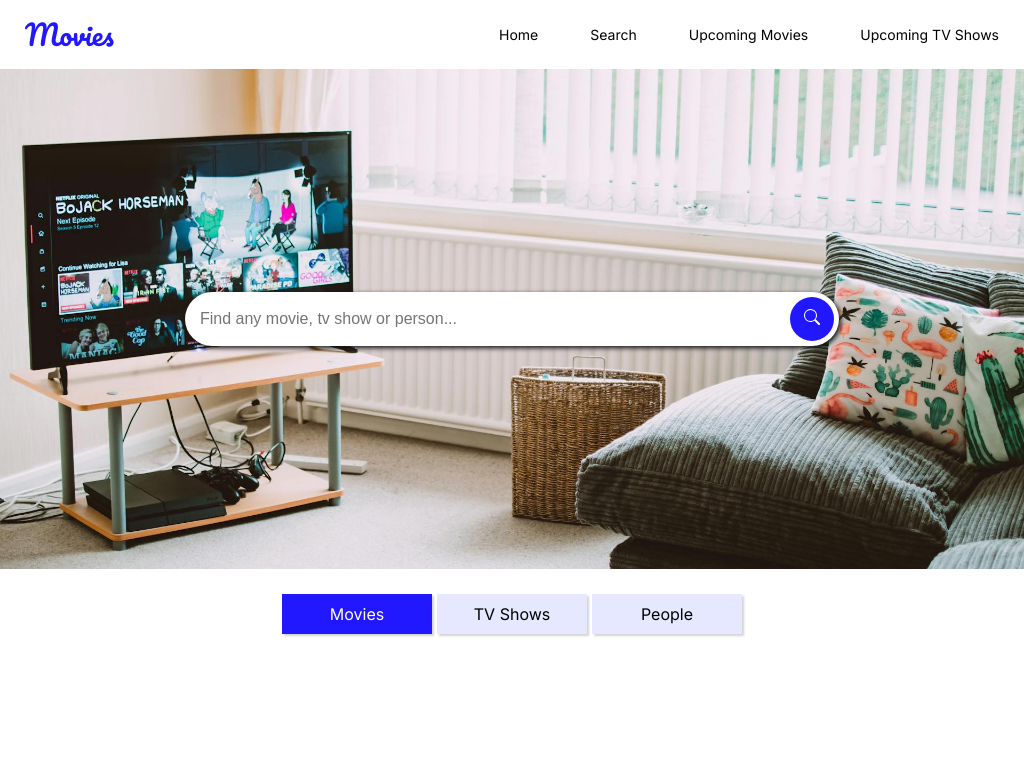
Scenario: Navigation › should navigate to the upcoming tv shows page
The width and height of the screenshot is (1024, 768).
Step 1. Click the link "Upcoming TV Shows" → x=930, y=35, box [860, 26, 999, 43]
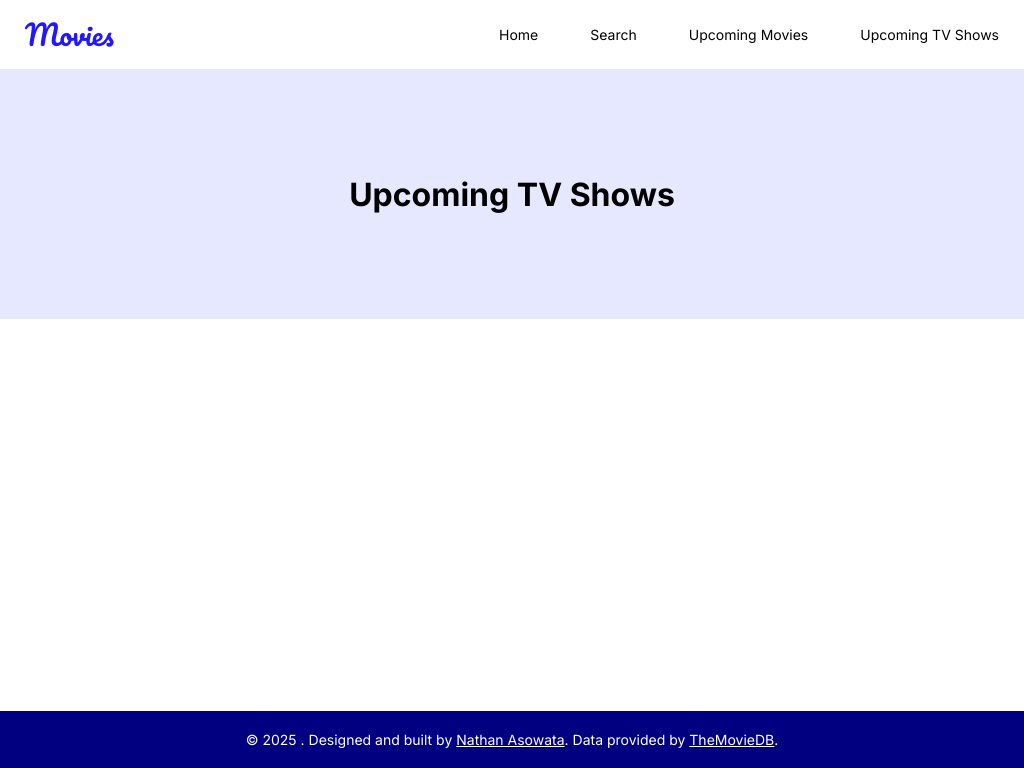
Check: the heading "Upcoming TV Shows" is shown, box [349, 174, 675, 214]
